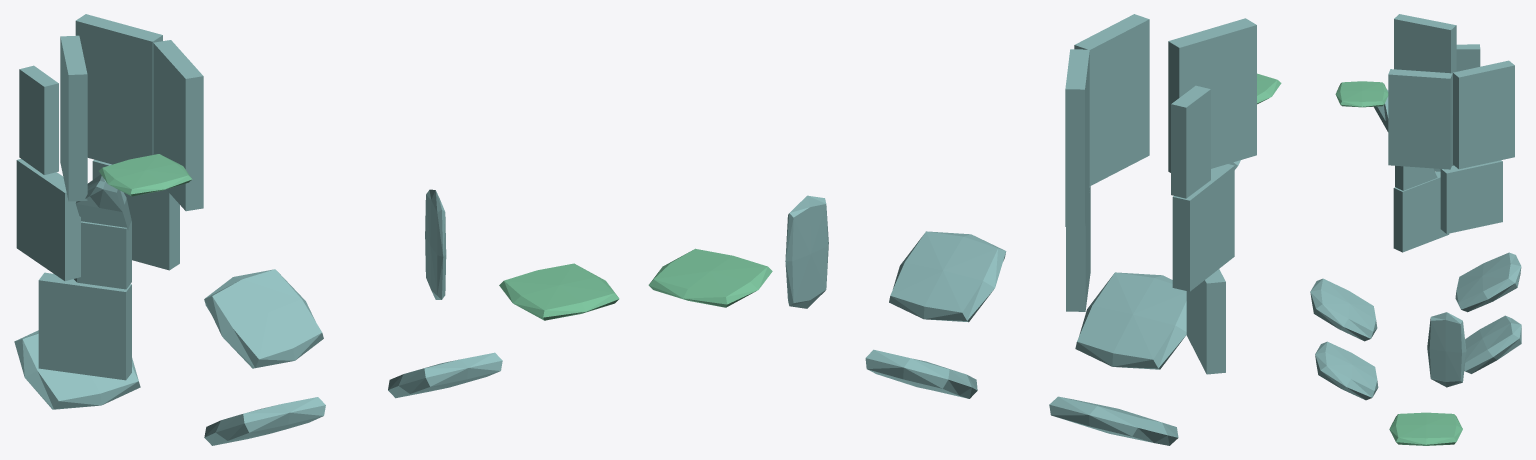
File: high_plateforms.dae
The picture shows the model from 3 angles, left to right: view 1: azimuth 30°, elevation 25°; view 2: azimuth 150°, elevation 25°; view 3: azimuth 270°, elevation 25°; orthographic projection. The views are drawn at different scales.
Visible parts, largest first — view 1: Cube_011, Cube_005, Cube_002, Cube_007, Cube_006, Cube_013, Cube_003, Cube_009, Cube_008, Cube_012, Cube_004, Cube_001 (+3 smaller); view 2: Cube_007, Cube_009, Cube_001, Cube, Cube_006, Cube_003, Cube_011, Cube_015, Cube_012, Cube_005, Cube_008, Cube_002 (+1 smaller); view 3: Cube_007, Cube_011, Cube_004, Cube_009, Cube_005, Cube_001, Cube_008, Cube_015, Cube, Cube_003, Cube_002, Cube_010 (+2 smaller).
Part boxes in pixels (bbox=[...]): Cube_011: bbox=[75, 14, 162, 164]; Cube_005: bbox=[38, 272, 131, 380]; Cube_002: bbox=[204, 269, 323, 368]; Cube_007: bbox=[153, 40, 203, 211]; Cube_006: bbox=[16, 159, 80, 280]; Cube_013: bbox=[74, 174, 131, 289]; Cube_003: bbox=[499, 263, 619, 320]; Cube_009: bbox=[60, 35, 87, 201]; Cube_008: bbox=[14, 330, 140, 409]; Cube_012: bbox=[19, 65, 58, 174]; Cube_004: bbox=[92, 159, 179, 270]; Cube_001: bbox=[204, 397, 325, 445]; Cube_007: bbox=[1074, 14, 1149, 185]; Cube_009: bbox=[1168, 18, 1256, 172]; Cube_001: bbox=[1075, 272, 1186, 369]; Cube: bbox=[889, 231, 1006, 322]; Cube_006: bbox=[1172, 164, 1234, 291]; Cube_003: bbox=[648, 248, 772, 307]; Cube_011: bbox=[1065, 49, 1089, 227]; Cube_015: bbox=[785, 195, 828, 308]; Cube_012: bbox=[1171, 85, 1210, 198]; Cube_005: bbox=[1186, 269, 1225, 374]; Cube_008: bbox=[1049, 396, 1178, 445]; Cube_002: bbox=[865, 349, 977, 398]; Cube_007: bbox=[1388, 69, 1452, 169]; Cube_011: bbox=[1453, 60, 1514, 169]; Cube_004: bbox=[1440, 160, 1502, 233]; Cube_009: bbox=[1394, 14, 1456, 114]; Cube_005: bbox=[1393, 171, 1449, 252]; Cube_001: bbox=[1310, 278, 1377, 341]; Cube_008: bbox=[1455, 252, 1521, 312]; Cube_015: bbox=[1427, 312, 1466, 387]; Cube: bbox=[1315, 341, 1378, 400]; Cube_003: bbox=[1389, 412, 1462, 445]; Cube_002: bbox=[1464, 315, 1521, 373]; Cube_010: bbox=[1335, 81, 1388, 107].
Bounding box in the file's own units: 16.61 × 7.95 × 10.97.
